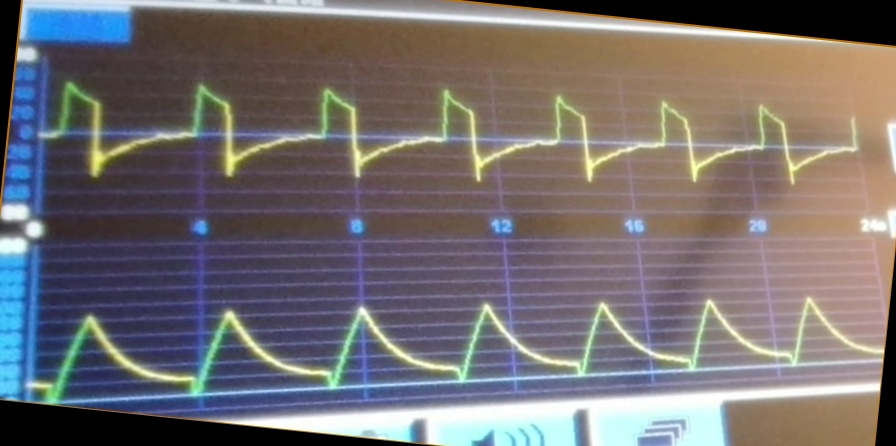Flow: (47, 81, 860, 198)
Leakage Volume: (36, 293, 877, 395)
